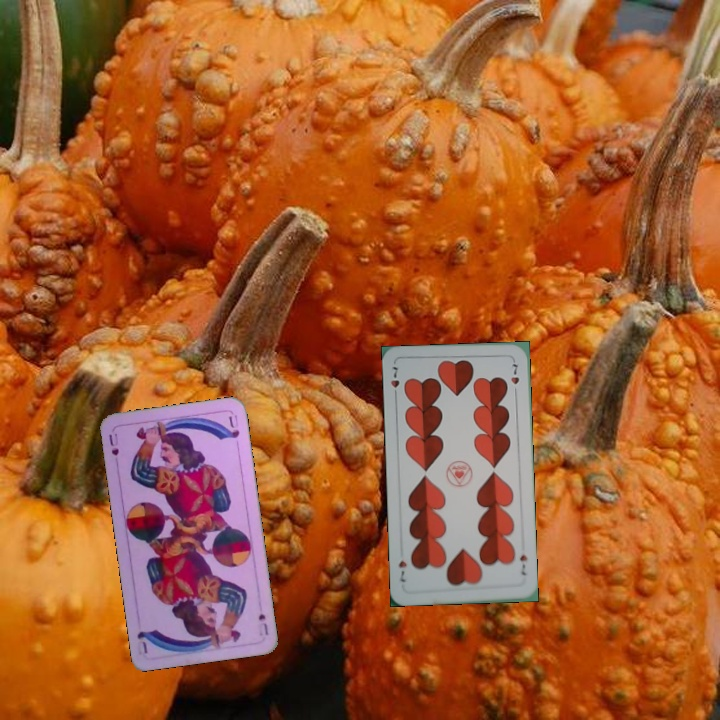H7: (387, 363, 402, 401), (516, 551, 530, 578)
SU: (253, 609, 271, 637), (105, 429, 121, 458)
